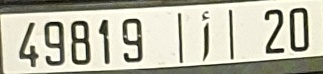0: (289, 6, 310, 52)
1: (97, 18, 112, 64)
2: (264, 7, 286, 55)
4: (17, 21, 41, 67)
8: (69, 19, 91, 65)
9: (120, 17, 144, 63), (43, 20, 65, 67)
a: (200, 9, 212, 63)
